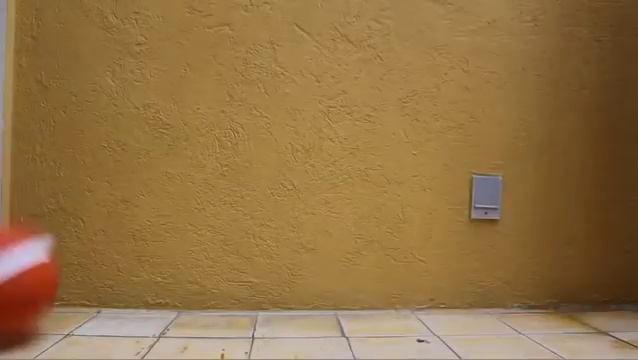ball: (1, 223, 59, 351)
